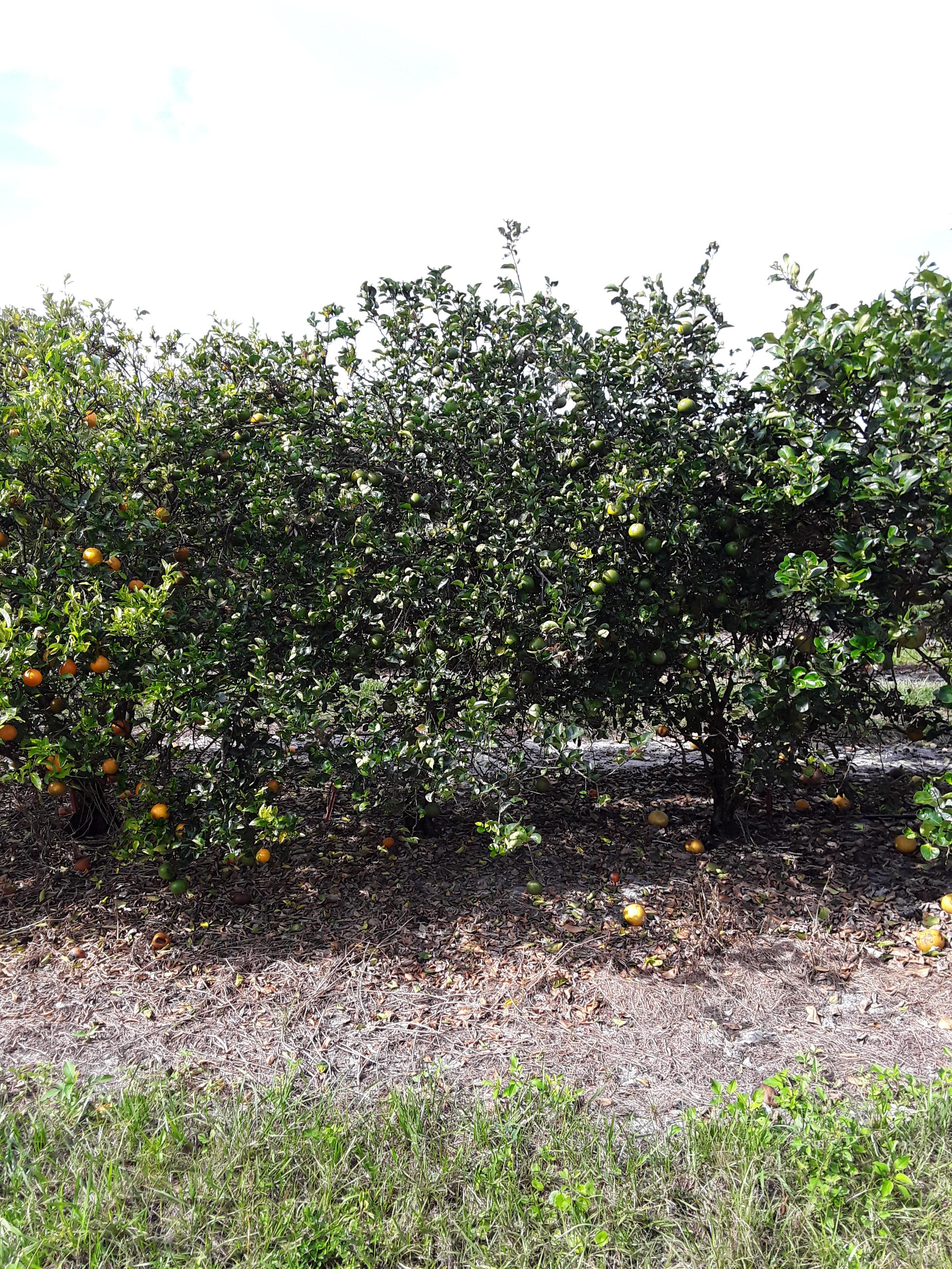fruit_on_ground: (897, 622, 928, 650), (791, 629, 818, 655), (40, 750, 65, 774), (20, 665, 44, 688), (712, 512, 735, 535), (108, 716, 132, 738), (625, 521, 649, 543), (904, 722, 927, 744), (80, 544, 103, 566), (721, 537, 744, 558), (675, 395, 698, 416), (603, 498, 625, 519), (167, 875, 189, 896), (516, 573, 538, 594), (148, 801, 170, 822), (40, 646, 61, 667), (155, 860, 176, 881), (567, 452, 588, 472), (733, 519, 753, 540), (72, 854, 93, 874), (601, 565, 621, 586), (643, 535, 663, 556), (46, 778, 68, 797), (532, 774, 552, 794), (586, 576, 606, 596), (58, 657, 79, 676), (151, 504, 172, 523), (47, 695, 68, 714), (81, 407, 100, 428), (90, 654, 111, 673), (728, 479, 748, 498), (526, 703, 546, 722), (588, 435, 608, 454), (4, 491, 25, 509), (0, 722, 18, 743), (663, 600, 682, 619), (346, 643, 365, 662), (634, 574, 653, 593), (100, 756, 119, 775), (498, 683, 518, 701), (417, 638, 437, 656), (526, 634, 546, 652), (648, 648, 668, 666), (504, 777, 523, 795), (501, 631, 520, 649), (518, 668, 537, 686), (132, 779, 151, 797), (348, 467, 367, 485), (676, 319, 695, 337), (681, 653, 700, 671), (424, 800, 443, 818), (104, 554, 123, 572), (365, 471, 384, 489), (367, 632, 387, 649), (171, 570, 191, 587), (116, 497, 135, 514), (412, 679, 431, 696), (172, 545, 191, 562), (127, 577, 146, 594), (331, 395, 350, 412), (13, 361, 30, 379), (381, 697, 399, 714), (265, 777, 283, 794), (411, 653, 430, 669), (173, 820, 189, 839), (551, 393, 568, 410), (408, 490, 425, 507), (161, 605, 177, 621), (183, 521, 198, 538), (312, 386, 329, 401), (655, 722, 670, 738), (250, 410, 265, 425), (444, 346, 460, 360), (217, 447, 232, 461), (0, 529, 10, 550), (430, 364, 443, 377)
fruit_on_tree: (749, 1082, 781, 1110), (914, 926, 946, 954), (620, 900, 648, 928), (891, 832, 919, 856), (646, 808, 672, 830), (799, 764, 825, 785), (150, 928, 173, 950), (227, 888, 252, 907), (831, 792, 853, 812), (683, 836, 706, 855), (72, 854, 93, 874), (523, 878, 545, 897), (253, 846, 271, 864), (938, 891, 952, 914), (603, 868, 621, 885), (625, 744, 644, 759), (886, 764, 905, 779), (775, 749, 791, 766), (55, 802, 73, 817), (793, 797, 811, 812), (380, 834, 397, 849), (687, 736, 703, 751), (193, 713, 207, 728), (584, 787, 599, 801), (119, 788, 133, 801)
